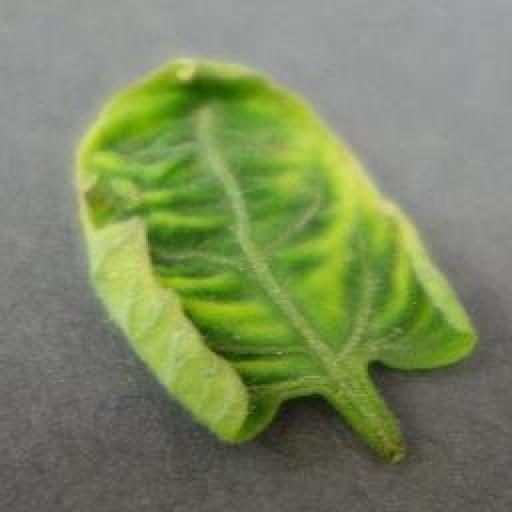disease_tomato: (74, 52, 479, 446)
